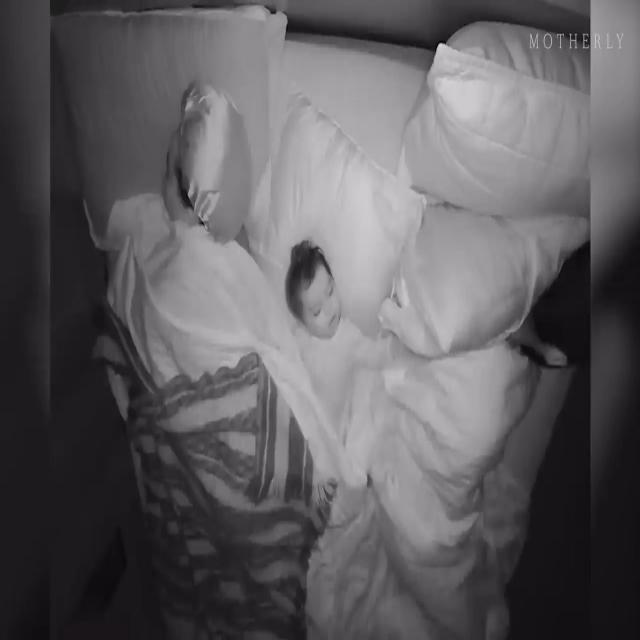baby: (285, 241, 400, 436)
